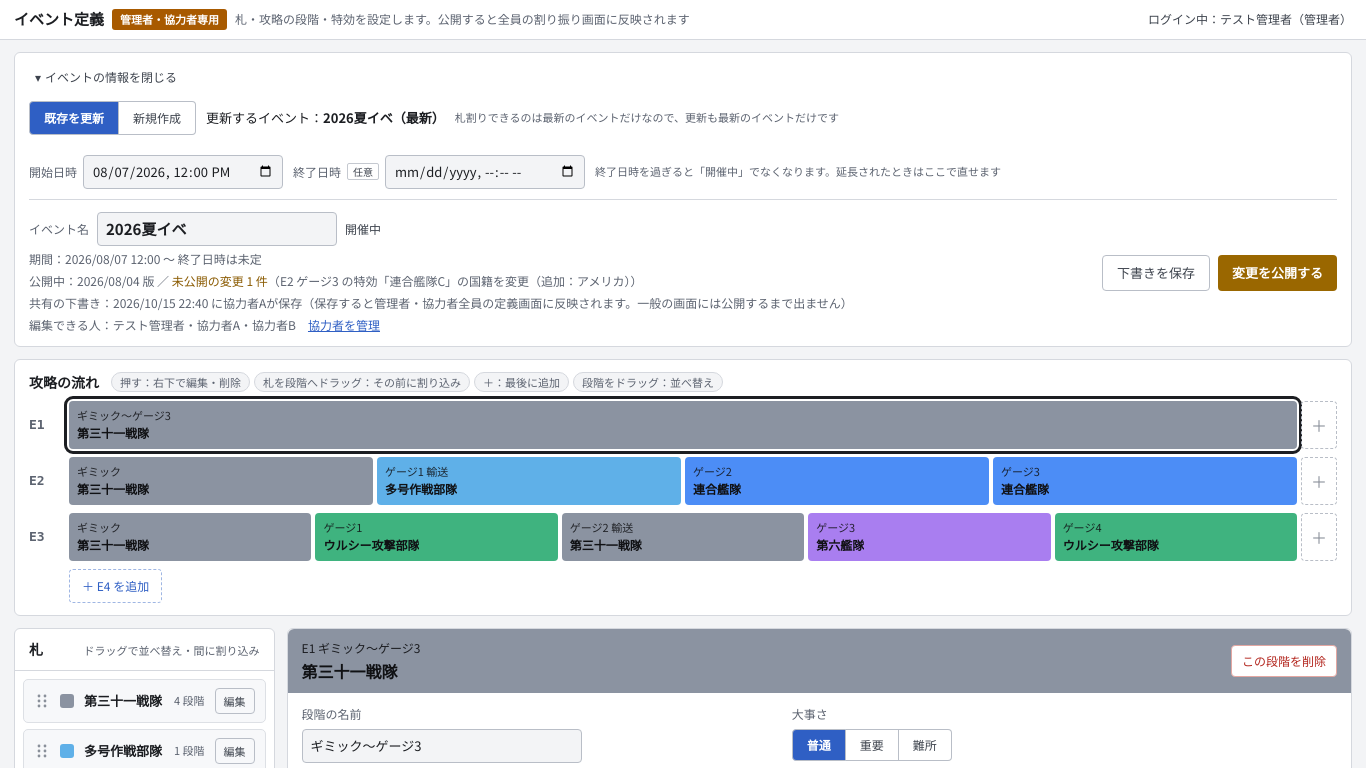
イベント定義の画面（PlanEditor）：特効グループの艦種（v1.1。国籍の条件を絞る） › 艦種の行を出す条件（国籍が 1 つ以上あるときだけ） › 国籍を持つグループには、国籍の行の下に「＋ 艦種」ボタンを出す（艦種はまだないのでタグはない）
Expected: the element "攻略の流れ" is shown, [14,358,1352,616]
Click the button "ゲージ3 連合艦隊".
click(1020, 470)  # box [993,456,1297,504]
(page scrolled)
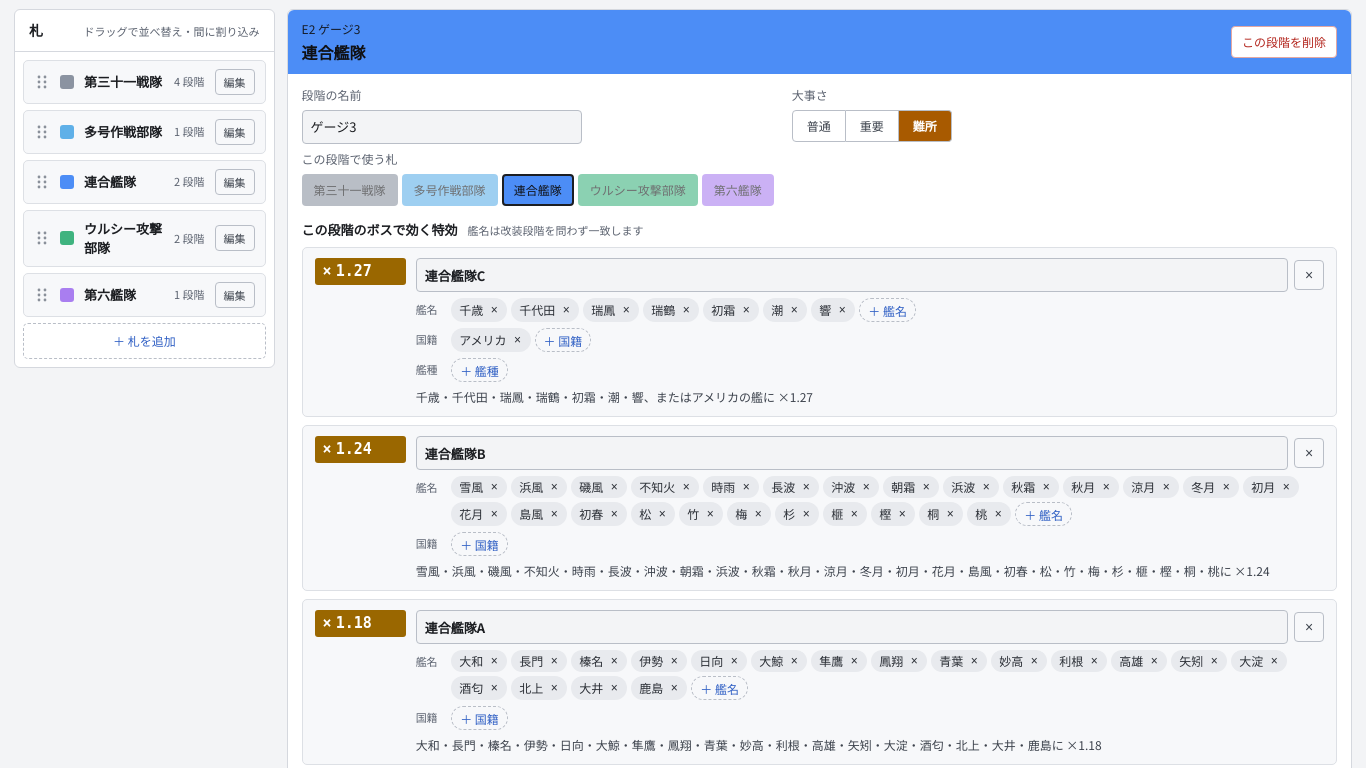
Result: the button "＋ 艦種" is shown at [451,358,508,382]
